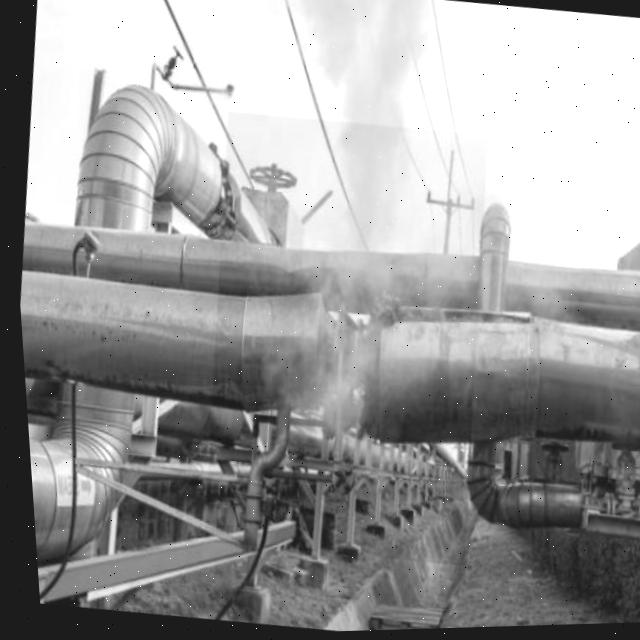corrosion: (204, 111, 487, 565)
